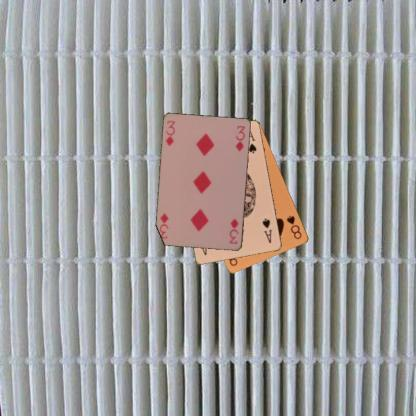3d: (226, 216, 240, 246), (163, 118, 177, 147)
8s: (284, 213, 304, 240)
As: (260, 216, 274, 244)
